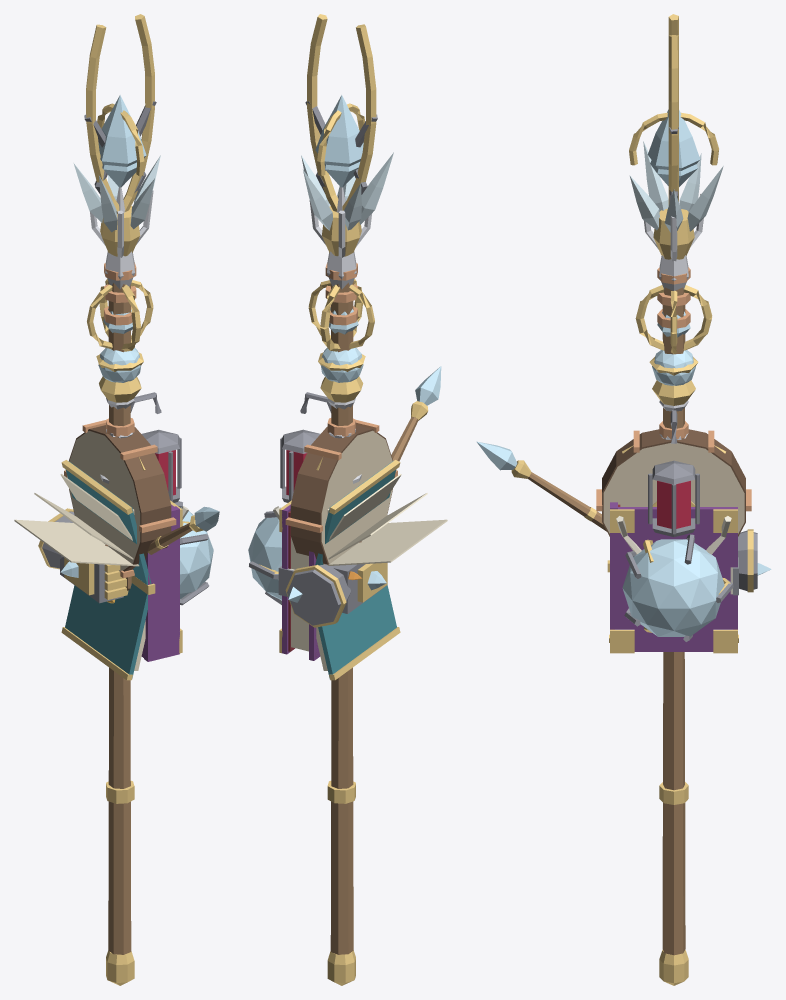
File: weapons-mage.glb
The picture shows the model from 3 angles, left to right: view 1: azimuth 30°, elevation 25°; view 2: azimuth 150°, elevation 25°; view 3: azimuth 270°, elevation 25°; orthographic projection.
Parts seen in each view (by area): view 1: staff_mesh, spellbook_mesh, drum_mesh, grimoire_mesh, icestaff_mesh, scepter_mesh, flamegaunt_mesh, lightrod_mesh, lantern_mesh, orb_mesh, stormstaff_mesh, tesla_mesh (+1 smaller); view 2: staff_mesh, spellbook_mesh, drum_mesh, flamegaunt_mesh, icestaff_mesh, scepter_mesh, grimoire_mesh, lightrod_mesh, orb_mesh, lantern_mesh, stormstaff_mesh, wand_mesh (+1 smaller); view 3: staff_mesh, grimoire_mesh, drum_mesh, orb_mesh, icestaff_mesh, lantern_mesh, scepter_mesh, wand_mesh, lightrod_mesh, tesla_mesh, flamegaunt_mesh, stormstaff_mesh (+1 smaller).
Boxes of the visible parts, x1,y1,x2,y2 form: staff_mesh: [86, 14, 154, 985]; spellbook_mesh: [14, 460, 155, 680]; drum_mesh: [64, 420, 176, 578]; grimoire_mesh: [141, 500, 182, 661]; icestaff_mesh: [73, 95, 160, 232]; scepter_mesh: [87, 278, 153, 402]; flamegaunt_mesh: [38, 508, 128, 603]; lightrod_mesh: [90, 187, 153, 436]; lantern_mesh: [130, 392, 181, 502]; orb_mesh: [180, 507, 213, 598]; stormstaff_mesh: [84, 101, 156, 325]; tesla_mesh: [98, 348, 141, 483]; staff_mesh: [307, 14, 376, 985]; spellbook_mesh: [288, 460, 447, 680]; drum_mesh: [285, 420, 397, 564]; flamegaunt_mesh: [285, 563, 387, 627]; icestaff_mesh: [301, 95, 393, 230]; scepter_mesh: [308, 279, 374, 402]; grimoire_mesh: [278, 500, 320, 660]; lightrod_mesh: [309, 187, 371, 436]; orb_mesh: [248, 507, 281, 600]; lantern_mesh: [280, 392, 331, 502]; stormstaff_mesh: [305, 101, 377, 325]; wand_mesh: [391, 366, 441, 461]; staff_mesh: [629, 14, 718, 985]; grimoire_mesh: [610, 502, 738, 653]; drum_mesh: [596, 429, 751, 536]; orb_mesh: [622, 539, 730, 636]; icestaff_mesh: [629, 109, 723, 232]; lantern_mesh: [648, 410, 699, 536]; scepter_mesh: [635, 285, 712, 405]; wand_mesh: [476, 441, 606, 531]; lightrod_mesh: [643, 193, 703, 439]; tesla_mesh: [652, 350, 695, 439]; flamegaunt_mesh: [738, 529, 757, 592]; stormstaff_mesh: [657, 127, 690, 328].
Bounding box in the file's own units: 0.3809 × 2.16 × 0.6016.
